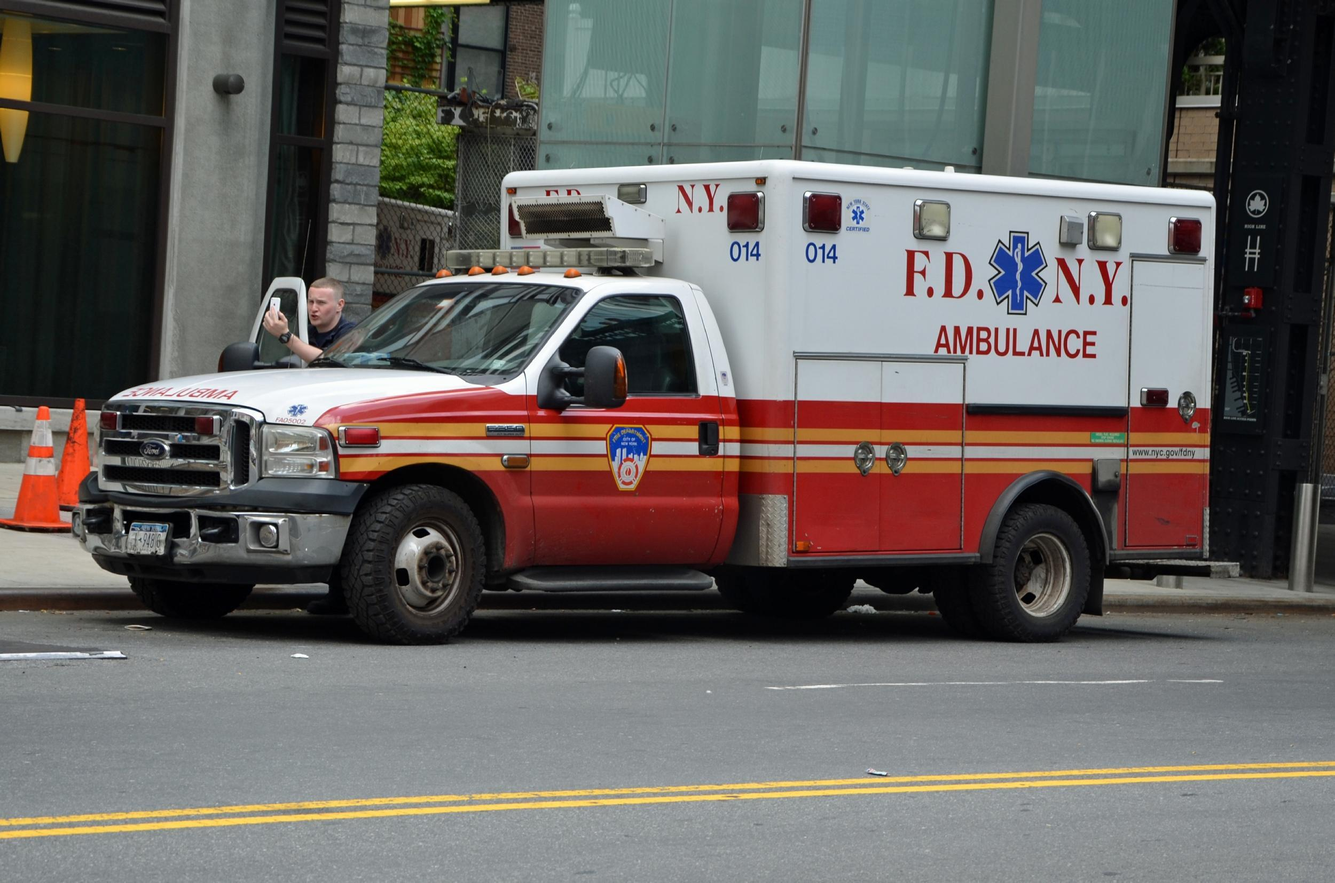Ambulance: (924, 319, 1104, 372), (983, 219, 1054, 329)
